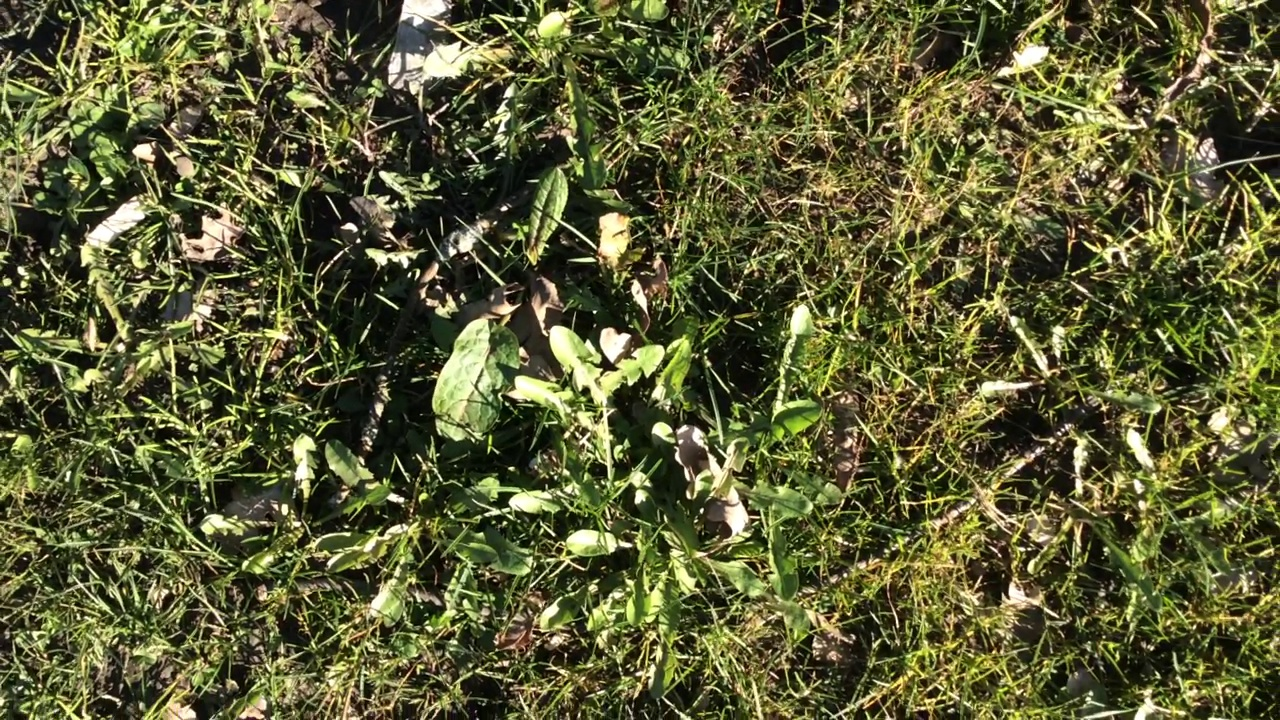rumex: (436, 319, 518, 437), (527, 169, 569, 263)
